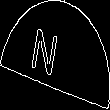N_S: (39, 25, 71, 85)
